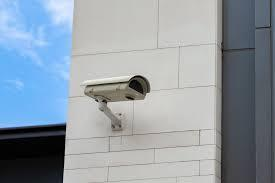Monitor: (81, 58, 165, 133)
